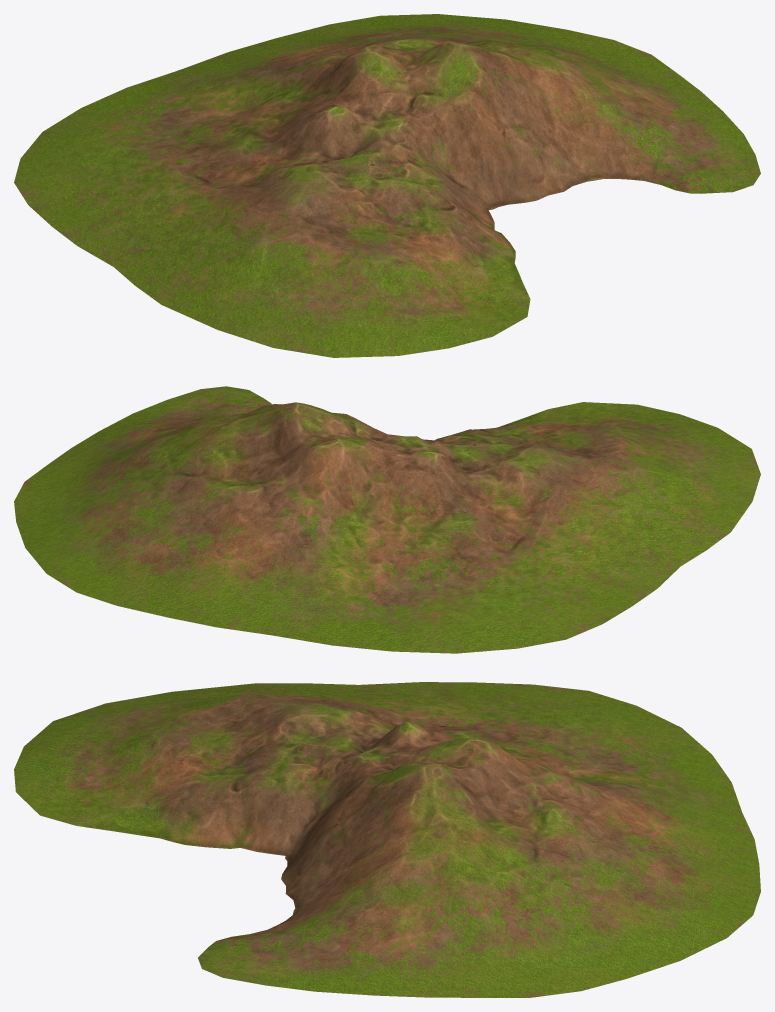
Rendered from EP1_terrain01b.fbx.
3 views of the same model, one above another, from view 1: azimuth 30°, elevation 25°; view 2: azimuth 150°, elevation 25°; view 3: azimuth 270°, elevation 25° (orthographic). The views are drawn at different scales.
Parts seen in each view (by area): view 1: Terrain01b; view 2: Terrain01b; view 3: Terrain01b.
Boxes of the visible parts, box(x1,y1,x2,y2) form: Terrain01b: box(14, 14, 760, 357); Terrain01b: box(14, 386, 760, 653); Terrain01b: box(14, 682, 760, 997).
Bounding box in the file's own units: 21.78 × 3.53 × 21.76.
